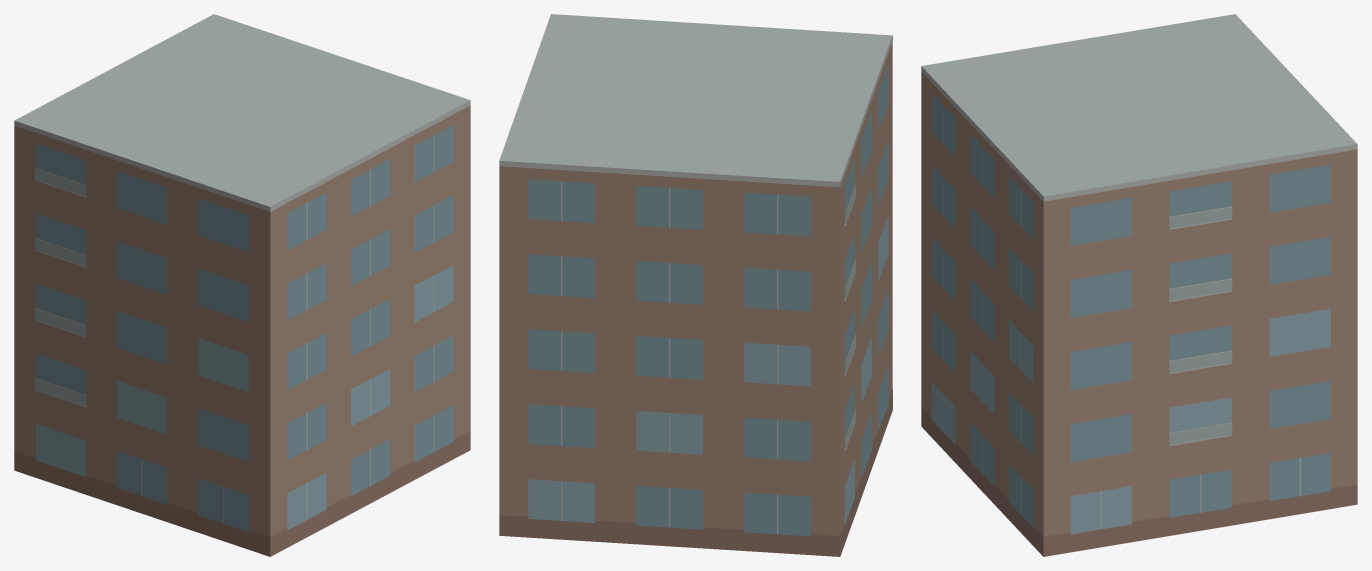
Rendered from survey-upis-32881906.glb.
3 views of the same model, side by side, from view 1: azimuth 30°, elevation 25°; view 2: azimuth 150°, elevation 25°; view 3: azimuth 270°, elevation 25° (orthographic). The views are drawn at different scales.
Visible parts, largest first — view 1: survey-upis-32881906.tmp; view 2: survey-upis-32881906.tmp; view 3: survey-upis-32881906.tmp.
Boxes of the visible parts, x1,y1,x2,y2 form: survey-upis-32881906.tmp: (14, 14, 470, 556); survey-upis-32881906.tmp: (499, 14, 892, 556); survey-upis-32881906.tmp: (921, 14, 1357, 556).
Bounding box in the file's own units: 18.36 × 16.9 × 18.55.
